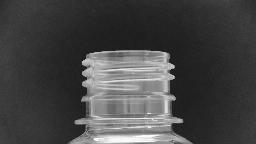No Cap: (68, 46, 186, 130)
